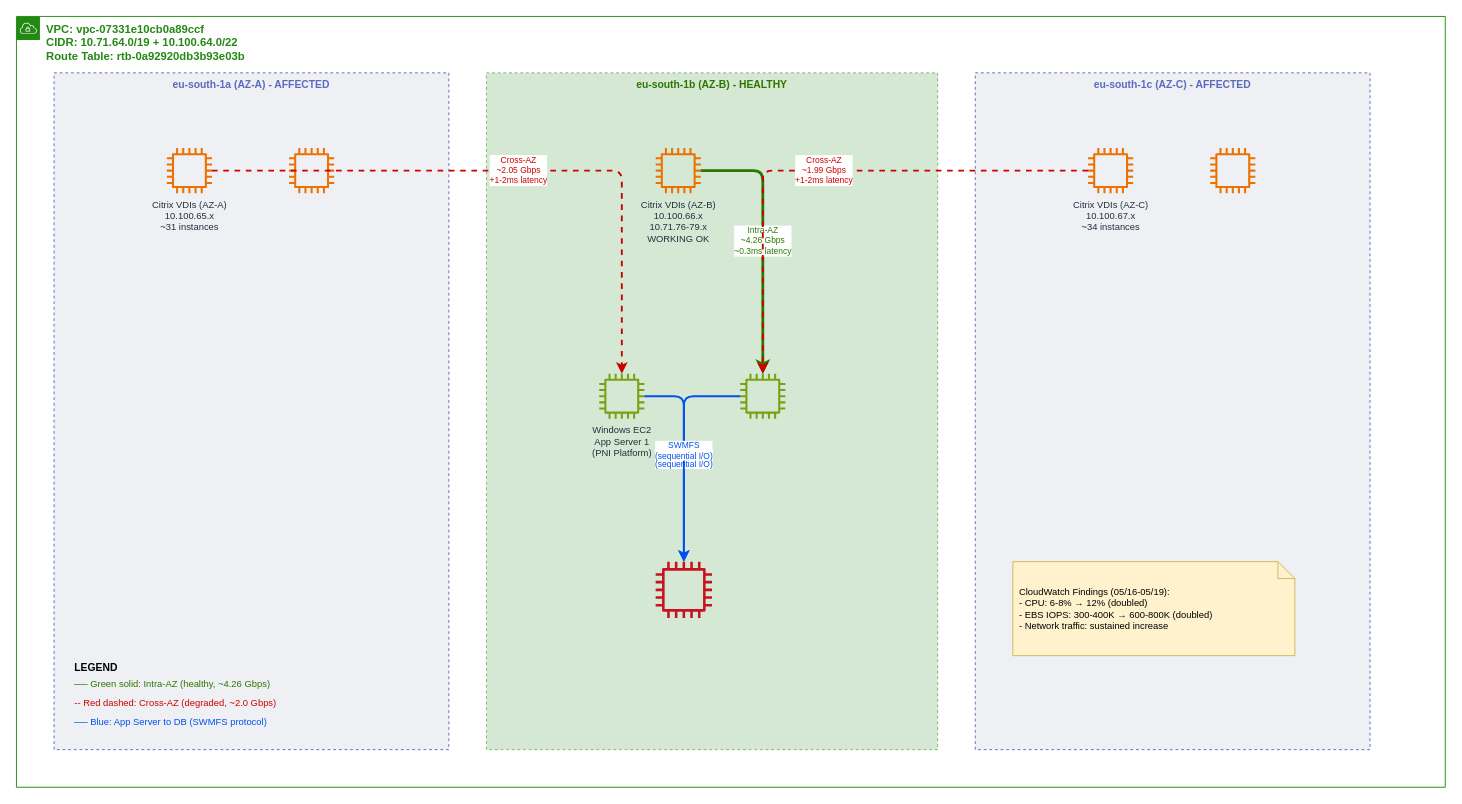
The diagram is 1462 pixels wide and 804 high, and some of its shapes have lost their labels. The shapes that lost their labels are listed below. From the top down, each one's centre as x and y in pixels, then its label:
At pixel 311 170: "Citrix VDIs (AZ-A) 10.71.72-75.x".
At pixel 1232 170: "Citrix VDIs (AZ-C) 10.71.80-83.x".
At pixel 762 395: "Windows EC2 App Server 2 (PNI Platform)".
At pixel 683 589: "DB RHEL (SWMFS) i-03f0405f920b3a37e c6i.12xlarge 10.100.68.116 eu-south-1b".
